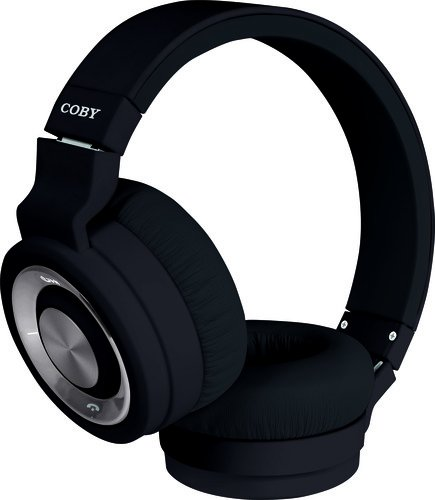Headphone: (1, 1, 435, 497)
